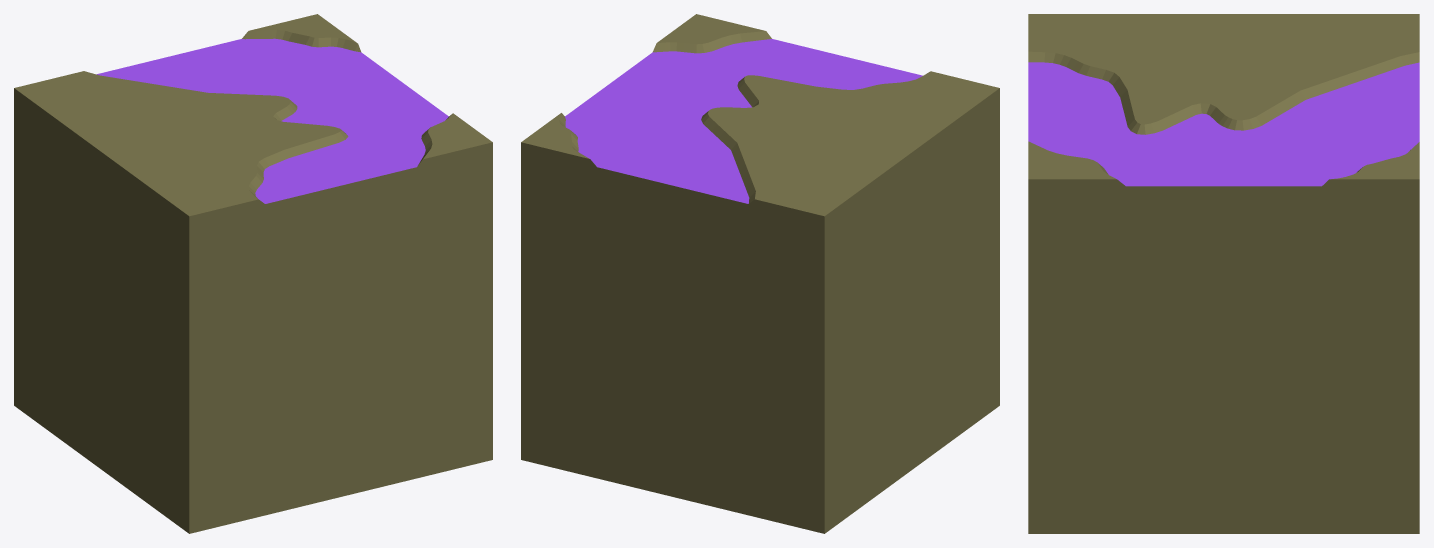
File: tile_toxic_5_02.fbx
3 renders of one model, left to right at view 1: azimuth 30°, elevation 25°; view 2: azimuth 150°, elevation 25°; view 3: azimuth 270°, elevation 25°, orthographic. The views are drawn at different scales.
Visible parts, largest first — view 1: tile_toxic_5_02; view 2: tile_toxic_5_02; view 3: tile_toxic_5_02.
Boxes of the visible parts, <box> form: tile_toxic_5_02: <box>14,14,492,533</box>; tile_toxic_5_02: <box>521,14,999,533</box>; tile_toxic_5_02: <box>1028,14,1419,533</box>.
Size of the model in its own units: 100 by 100 by 100.
